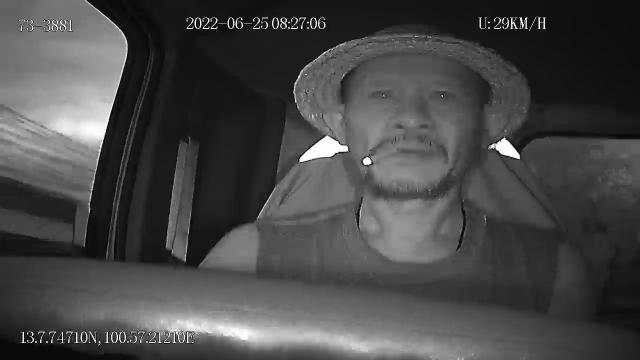SafeDriving: (423, 81, 461, 109), (364, 78, 401, 105)
Smoking: (359, 146, 398, 166)
